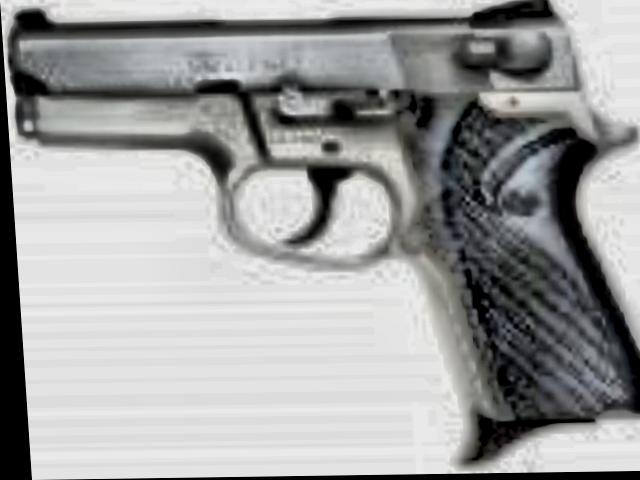pistol: (4, 0, 640, 476)
